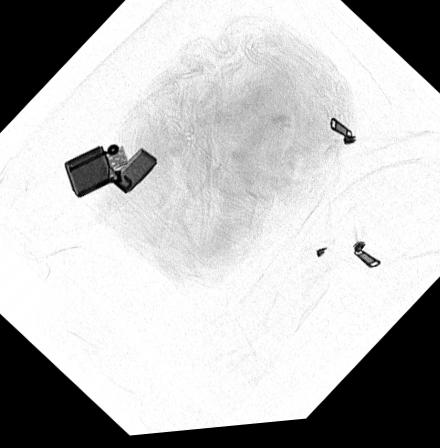Lighter: (62, 144, 158, 199)
